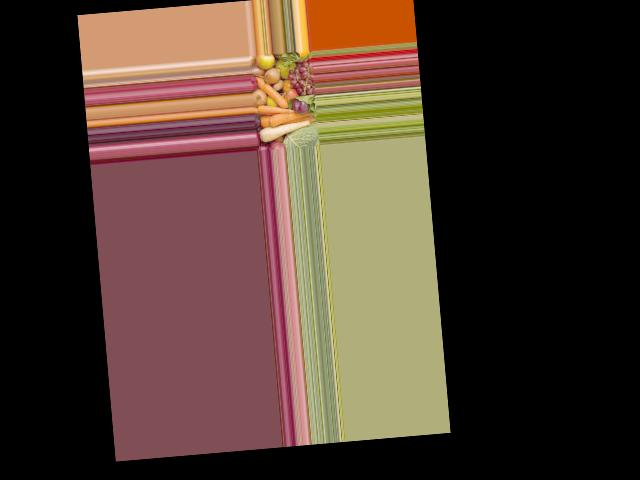carrot: (266, 112, 311, 123)
